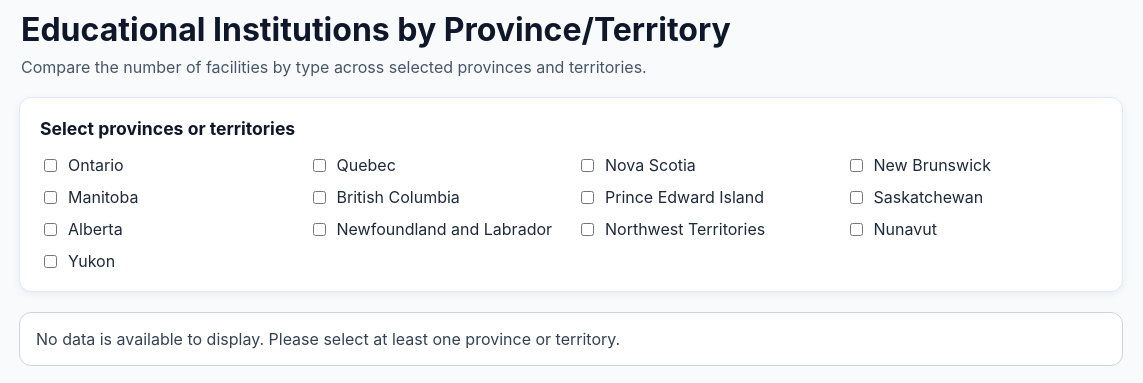
Test case: AC6: no provinces selected shows a no-data message › no-data message reappears after all provinces are deselected
This screenshot has width=1143, height=383.
Click the checkbox labelled "Ontario" at (50, 165), box [44, 158, 57, 172]
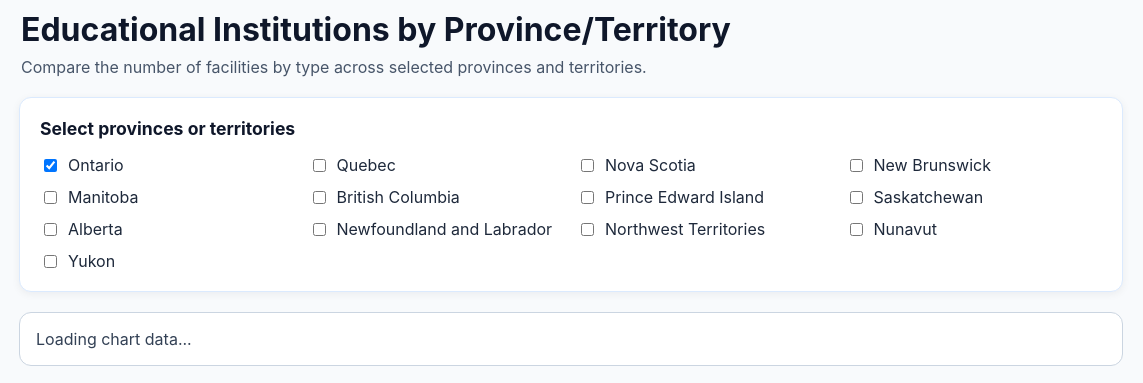
Expected: the text "No data is available to display" is gone
Click the checkbox labelled "Ontario" at (50, 165), box [44, 158, 57, 172]
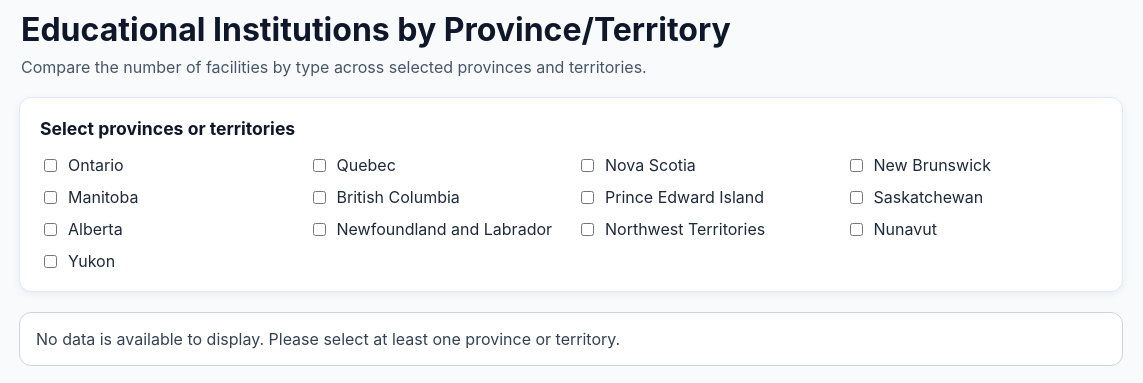
Expected: the text "No data is available to display" is shown, [36, 329, 620, 349]
